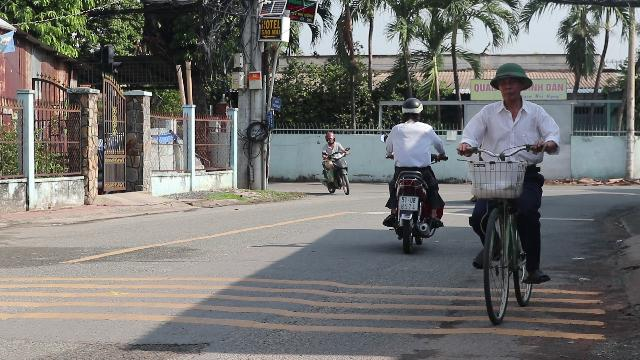helmet: (400, 96, 422, 121)
licenseplate: (399, 196, 418, 210)
motorcyclist: (379, 96, 448, 250)
